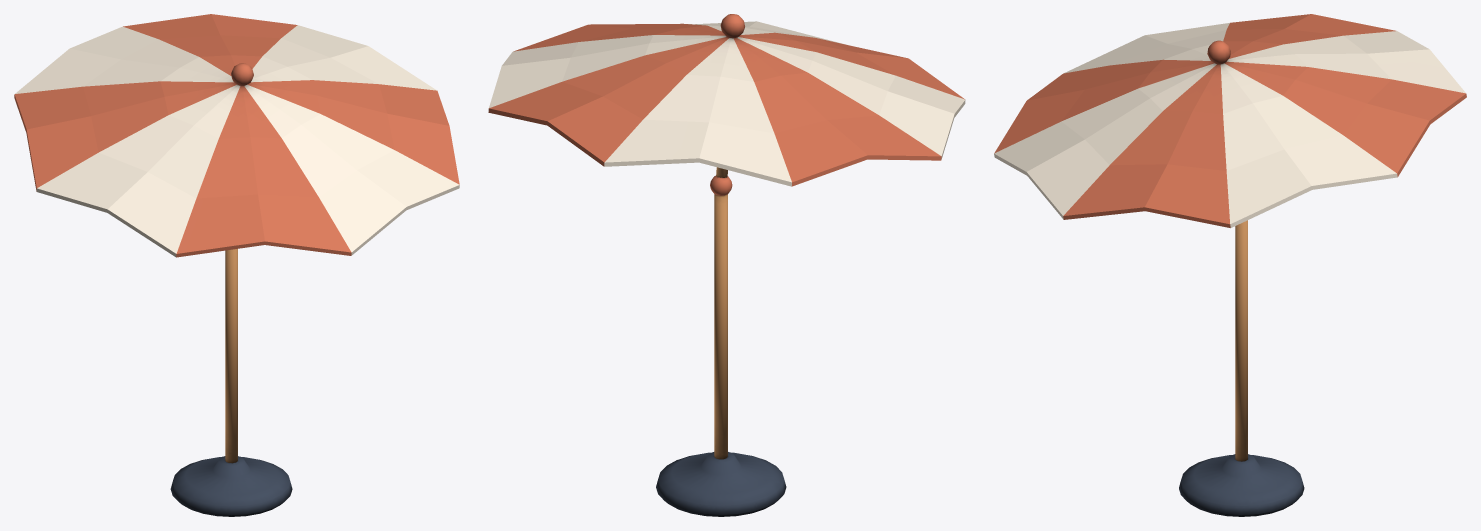
File: parasol.glb
3 renders of one model, left to right at view 1: azimuth 30°, elevation 25°; view 2: azimuth 150°, elevation 25°; view 3: azimuth 270°, elevation 25°, orthographic. The views are drawn at different scales.
Parts seen in each view (by area): view 1: parasol; view 2: parasol; view 3: parasol.
Part boxes in pixels (x1,y1,x2,y2): parasol: [14, 14, 459, 516]; parasol: [488, 14, 965, 516]; parasol: [994, 14, 1466, 516].
Size of the model in its own units: 2.2 by 2.29 by 2.18.
4 materials, 4 textured.
